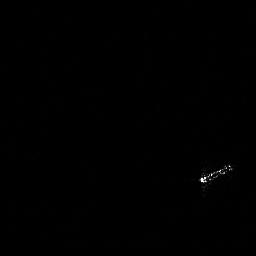ship: (195, 160, 235, 188)
